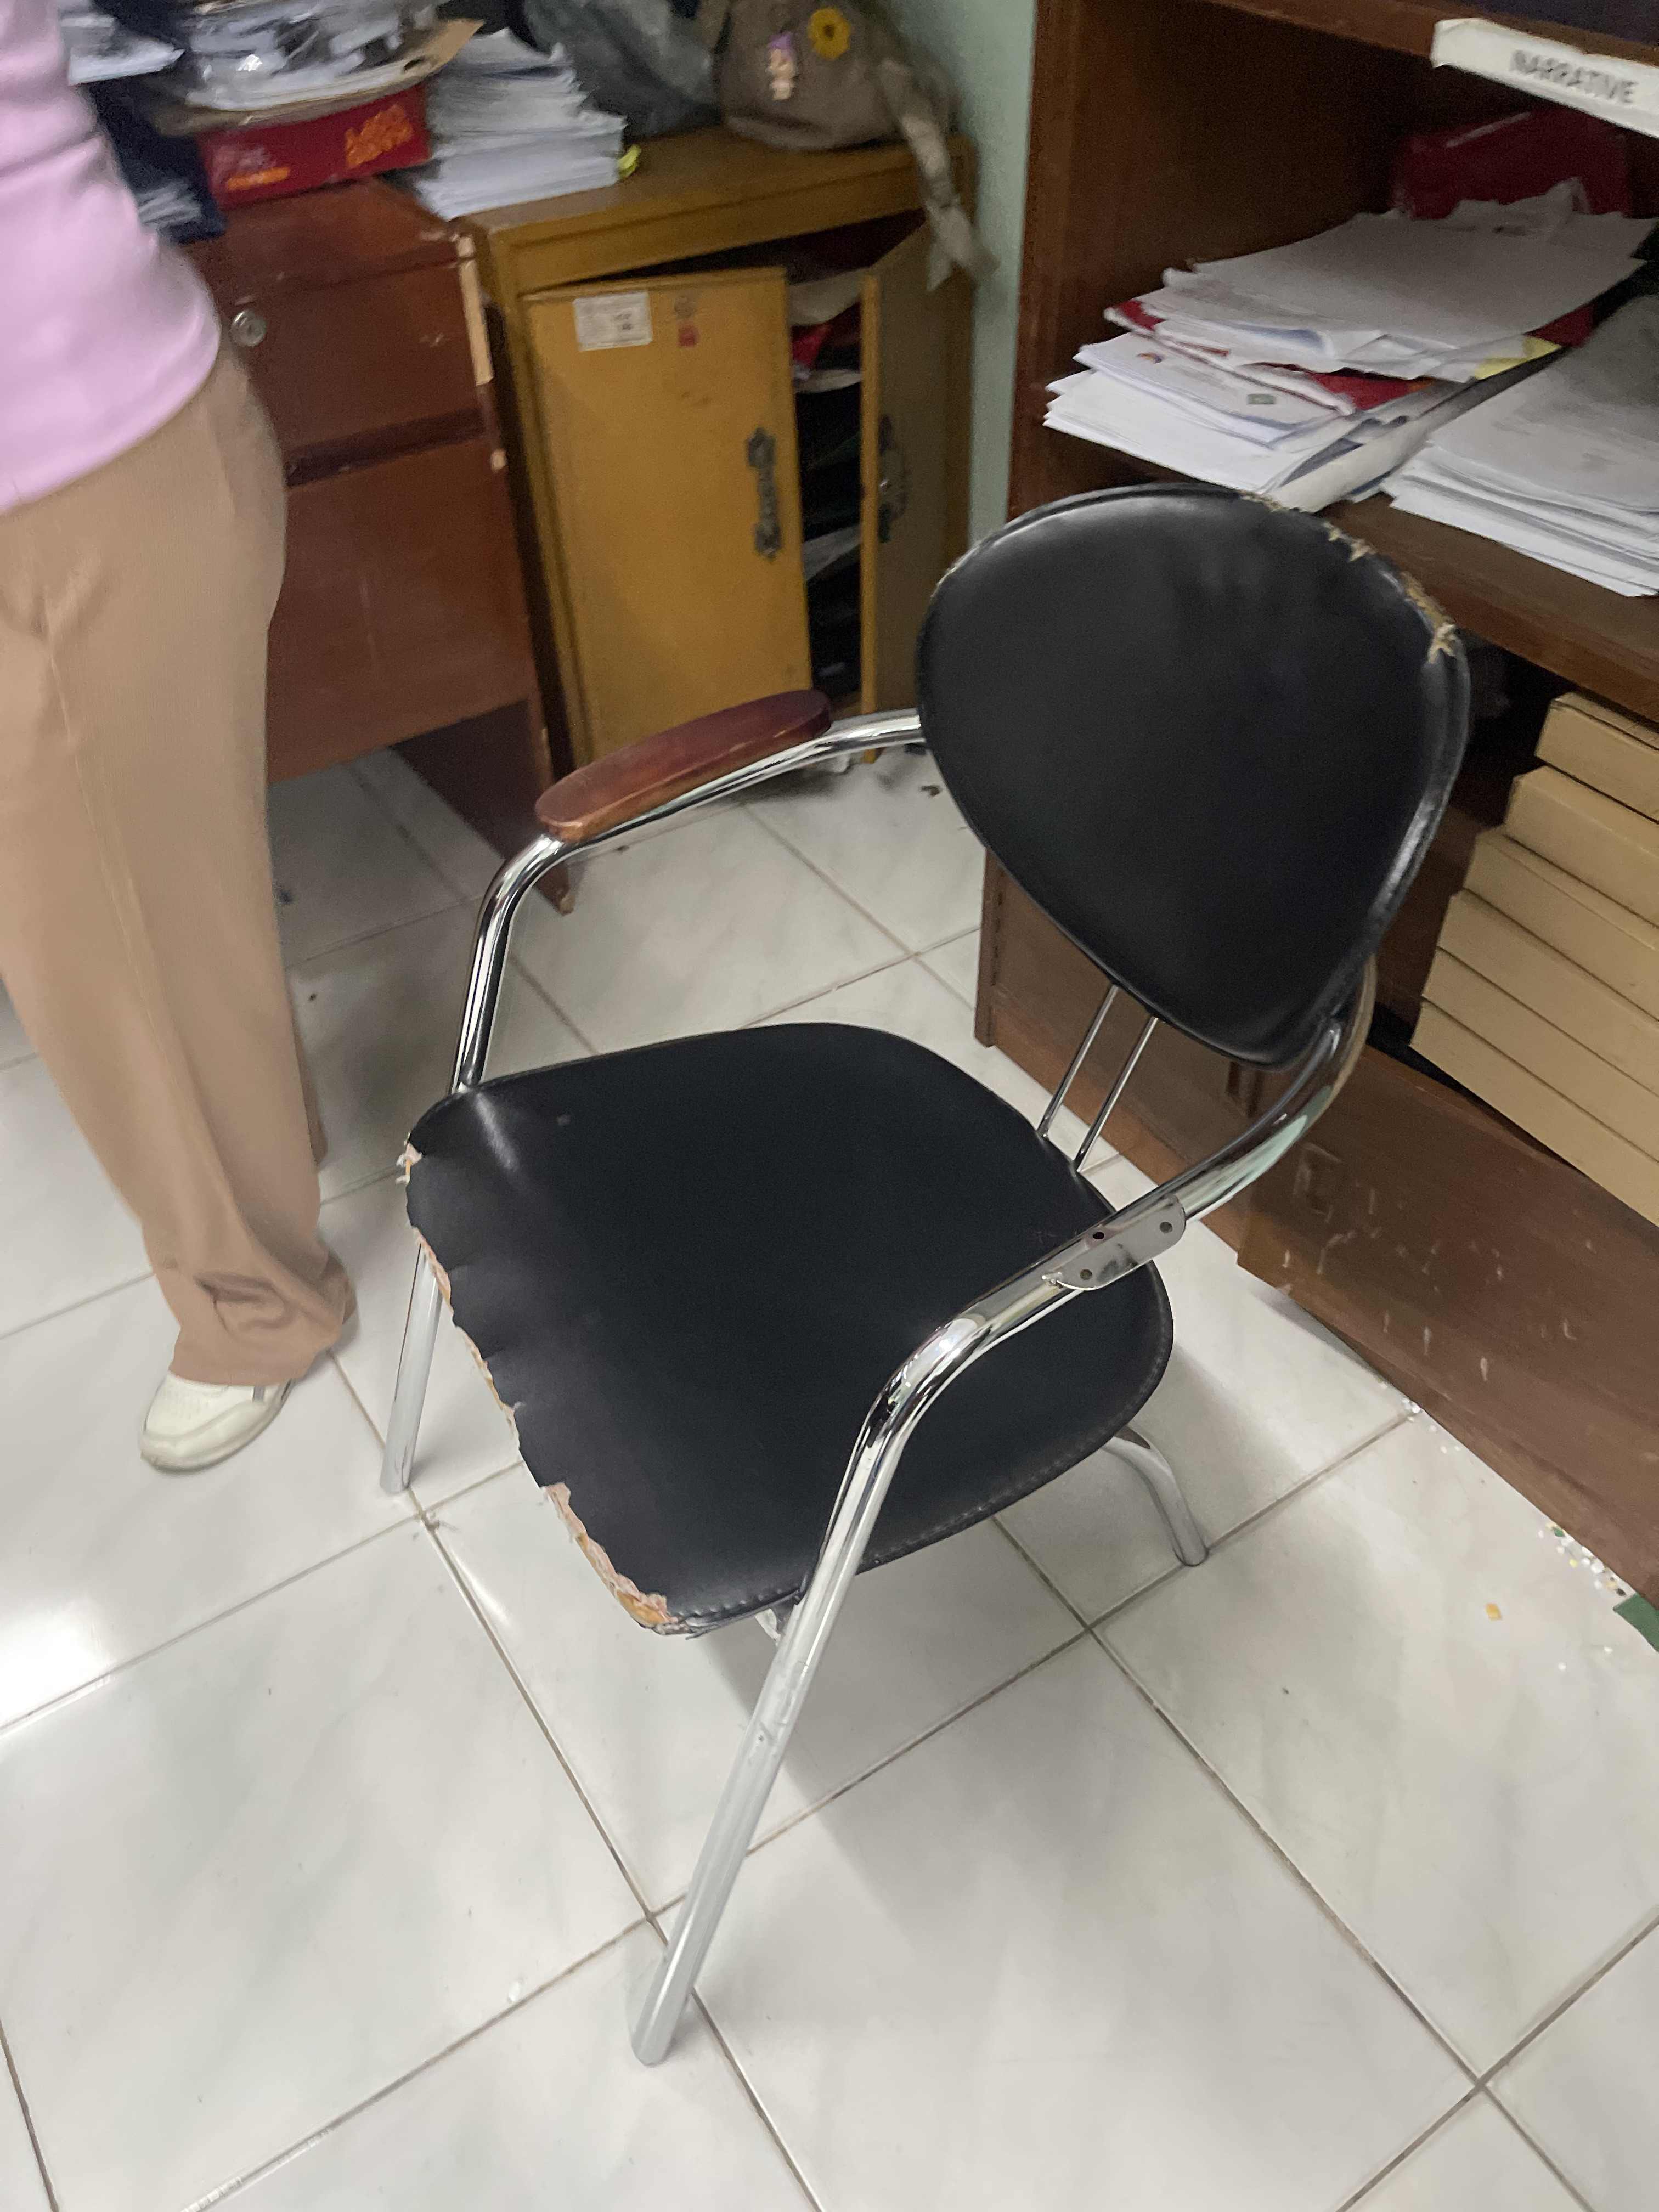chair1: (378, 479, 1485, 2060)
